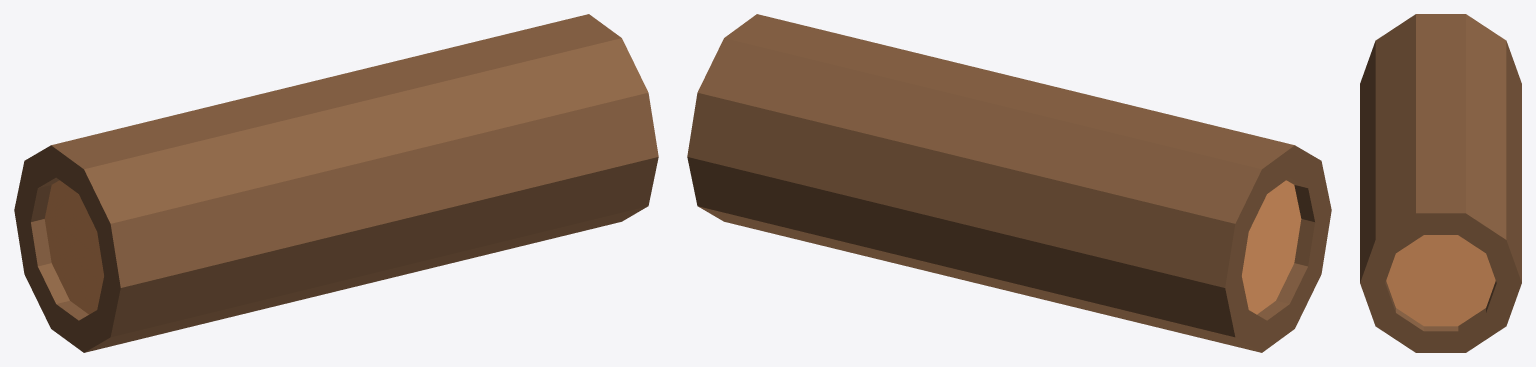
File: firewood.fbx
The picture shows the model from 3 angles, left to right: view 1: azimuth 30°, elevation 25°; view 2: azimuth 150°, elevation 25°; view 3: azimuth 270°, elevation 25°; orthographic projection. The views are drawn at different scales.
Parts seen in each view (by area): view 1: Cylinder, Cylinder.002; view 2: Cylinder, Cylinder.002; view 3: Cylinder, Cylinder.001.
Boxes of the visible parts, bbox=[...] form: Cylinder: bbox=[14, 14, 658, 352]; Cylinder.002: bbox=[44, 180, 103, 314]; Cylinder: bbox=[687, 14, 1331, 352]; Cylinder.002: bbox=[1242, 180, 1301, 314]; Cylinder: bbox=[1360, 14, 1521, 352]; Cylinder.001: bbox=[1386, 235, 1495, 326].
Size of the model in its own units: 583 by 190 by 200.
